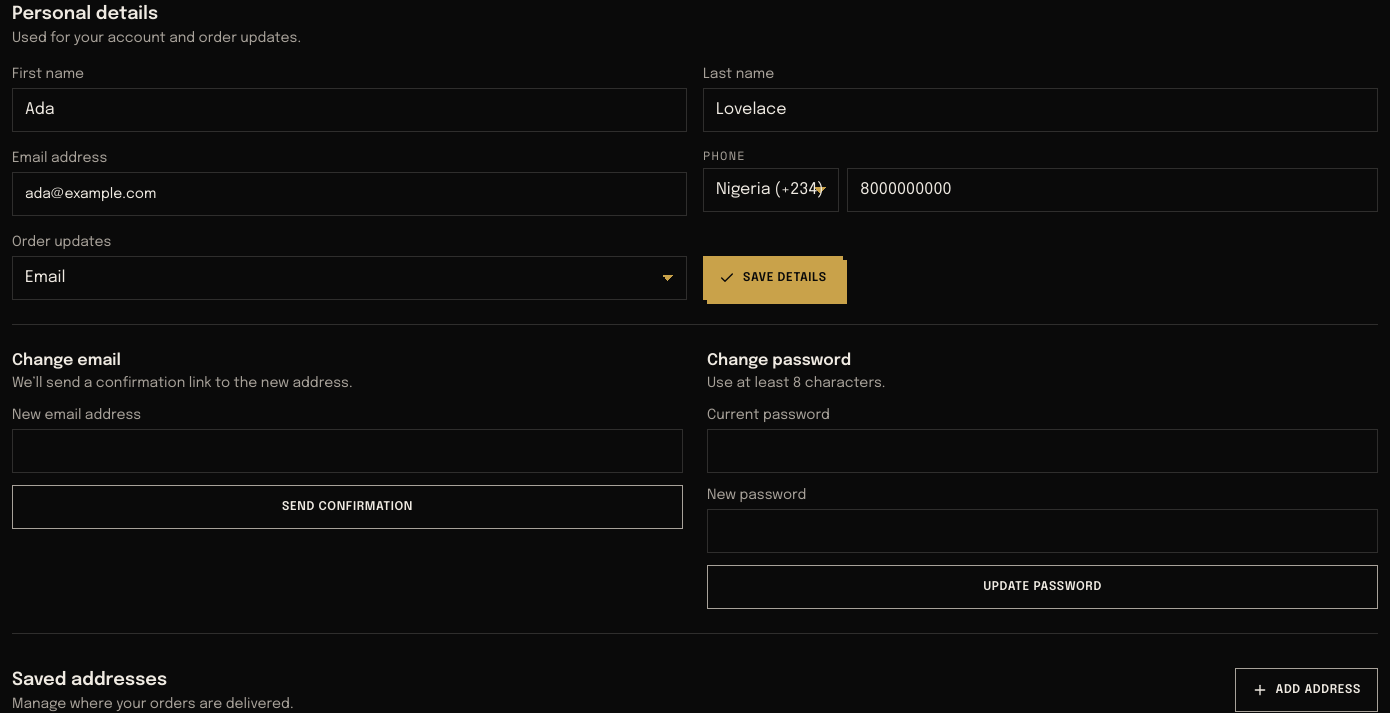
Test: AccountProfile › shows personal details and saves profile changes
Expected: the text "ada@example.com" is shown, x1=12 y1=172 x2=687 y2=216
Step 1. Replace the text in the field labelled "First name" with "Augusta" → (350, 110), box x1=12 y1=88 x2=687 y2=132
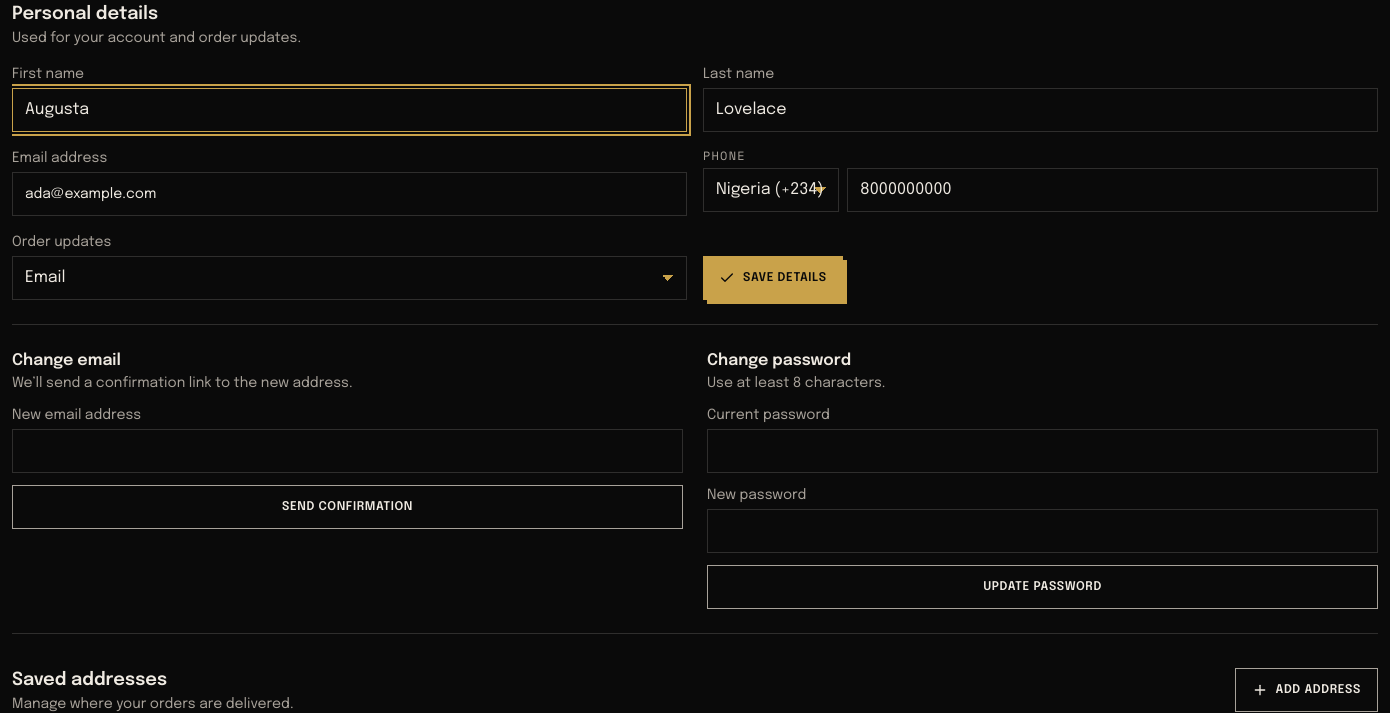
Step 2. Click the button "Save details" → click(773, 278), box x1=703 y1=256 x2=843 y2=300
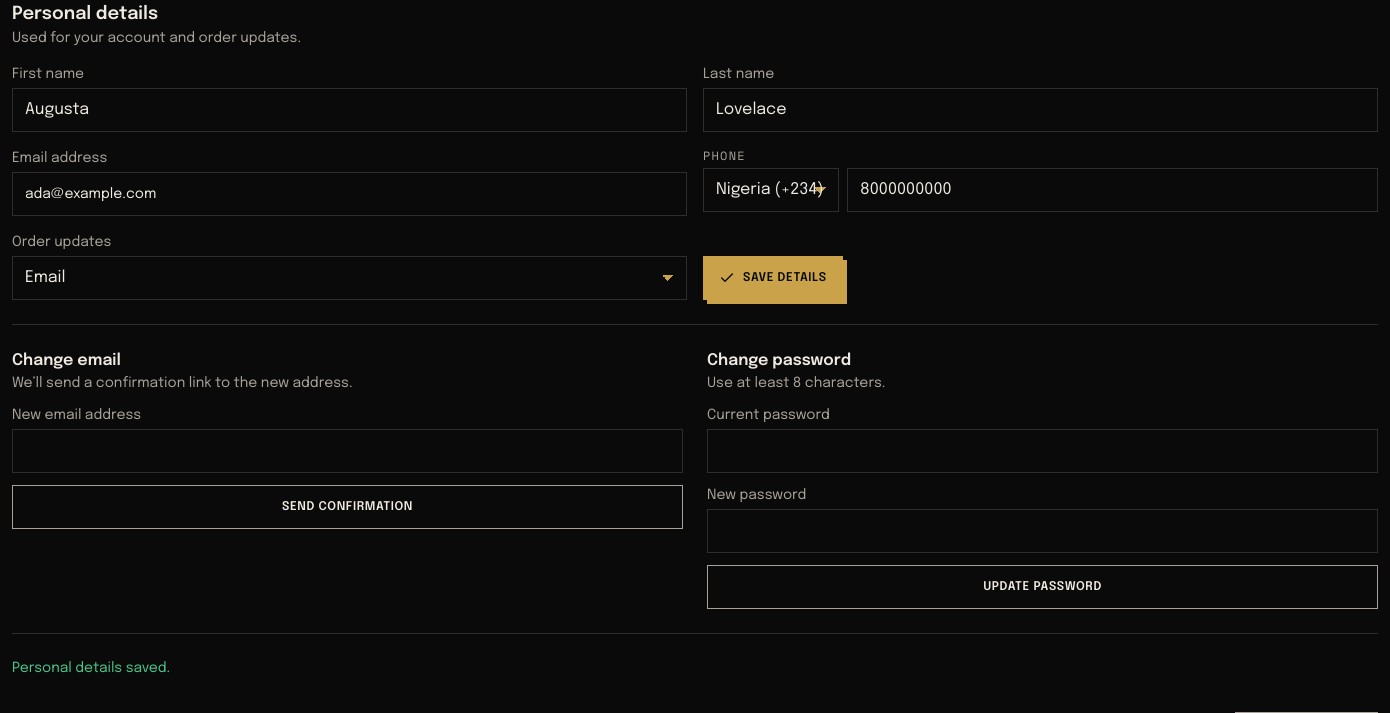
Expected: the message reads "Personal details saved.", x1=12 y1=661 x2=170 y2=675
